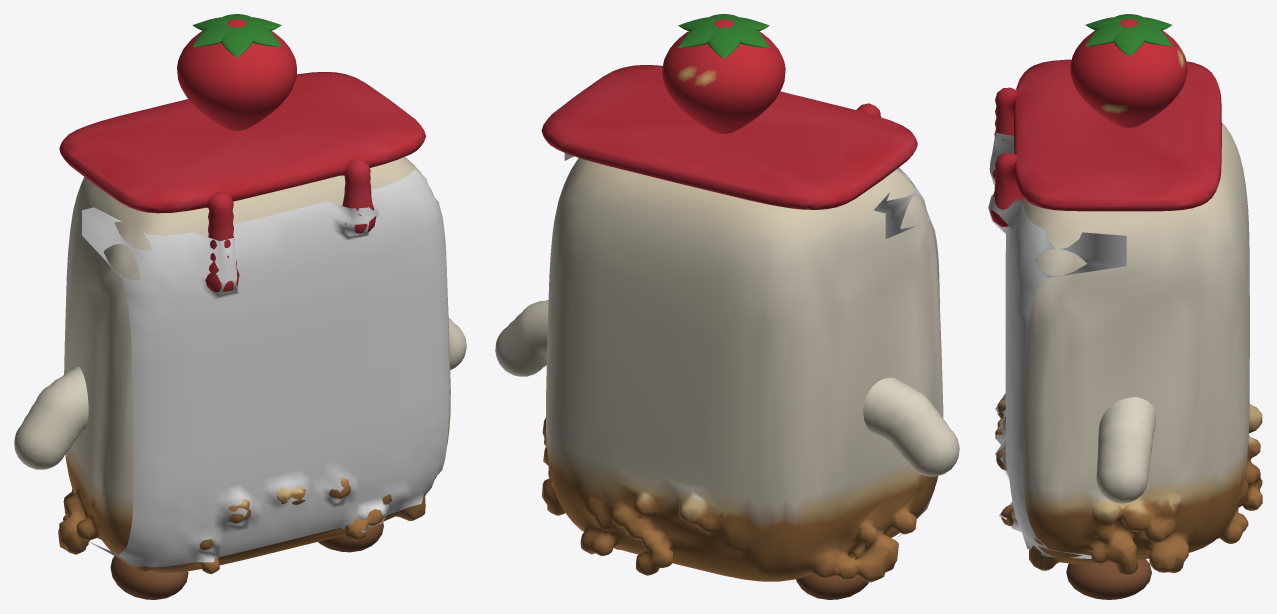
The model's file is folk2_cece_lod1.glb.
3 views of the same model, side by side, from view 1: azimuth 30°, elevation 25°; view 2: azimuth 150°, elevation 25°; view 3: azimuth 270°, elevation 25° (orthographic). The views are drawn at different scales.
Parts seen in each view (by area): view 1: cece_face, cece_body, cece_arm_l, cece_foot_l, cece_foot_r, cece_arm_r; view 2: cece_body, cece_arm_l, cece_arm_r, cece_face, cece_foot_l; view 3: cece_body, cece_face, cece_arm_r, cece_foot_r.
Part boxes in pixels (left/top/right/bottom): cece_face: left=82, top=167, right=448, bottom=567; cece_body: left=58, top=14, right=450, bottom=574; cece_arm_l: left=14, top=366, right=88, bottom=469; cece_foot_l: left=110, top=556, right=188, bottom=599; cece_foot_r: left=318, top=522, right=383, bottom=552; cece_arm_r: left=448, top=318, right=466, bottom=369; cece_body: left=541, top=14, right=943, bottom=582; cece_arm_l: left=863, top=377, right=959, bottom=476; cece_arm_r: left=495, top=300, right=548, bottom=376; cece_face: left=564, top=153, right=939, bottom=539; cece_foot_l: left=796, top=556, right=868, bottom=599; cece_body: left=990, top=14, right=1262, bottom=575; cece_face: left=988, top=128, right=1126, bottom=558; cece_arm_r: left=1096, top=397, right=1155, bottom=503; cece_foot_r: left=1066, top=559, right=1151, bottom=599.
Size of the model in its own units: 0.9907 by 1.15 by 0.5423.
